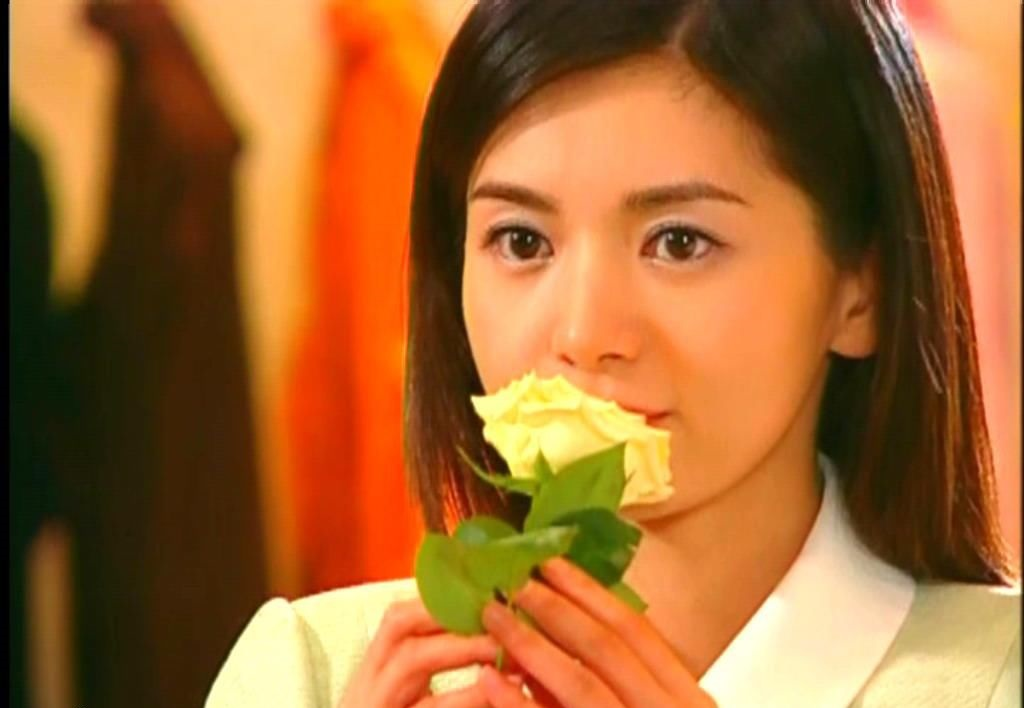face: (450, 77, 831, 505)
